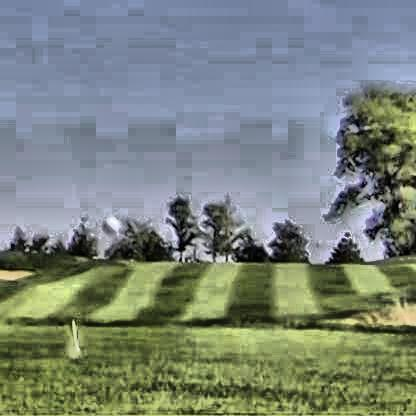golfball: (98, 212, 116, 233)
